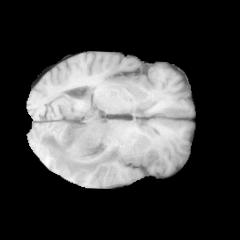glioma: (39, 106, 120, 176)
